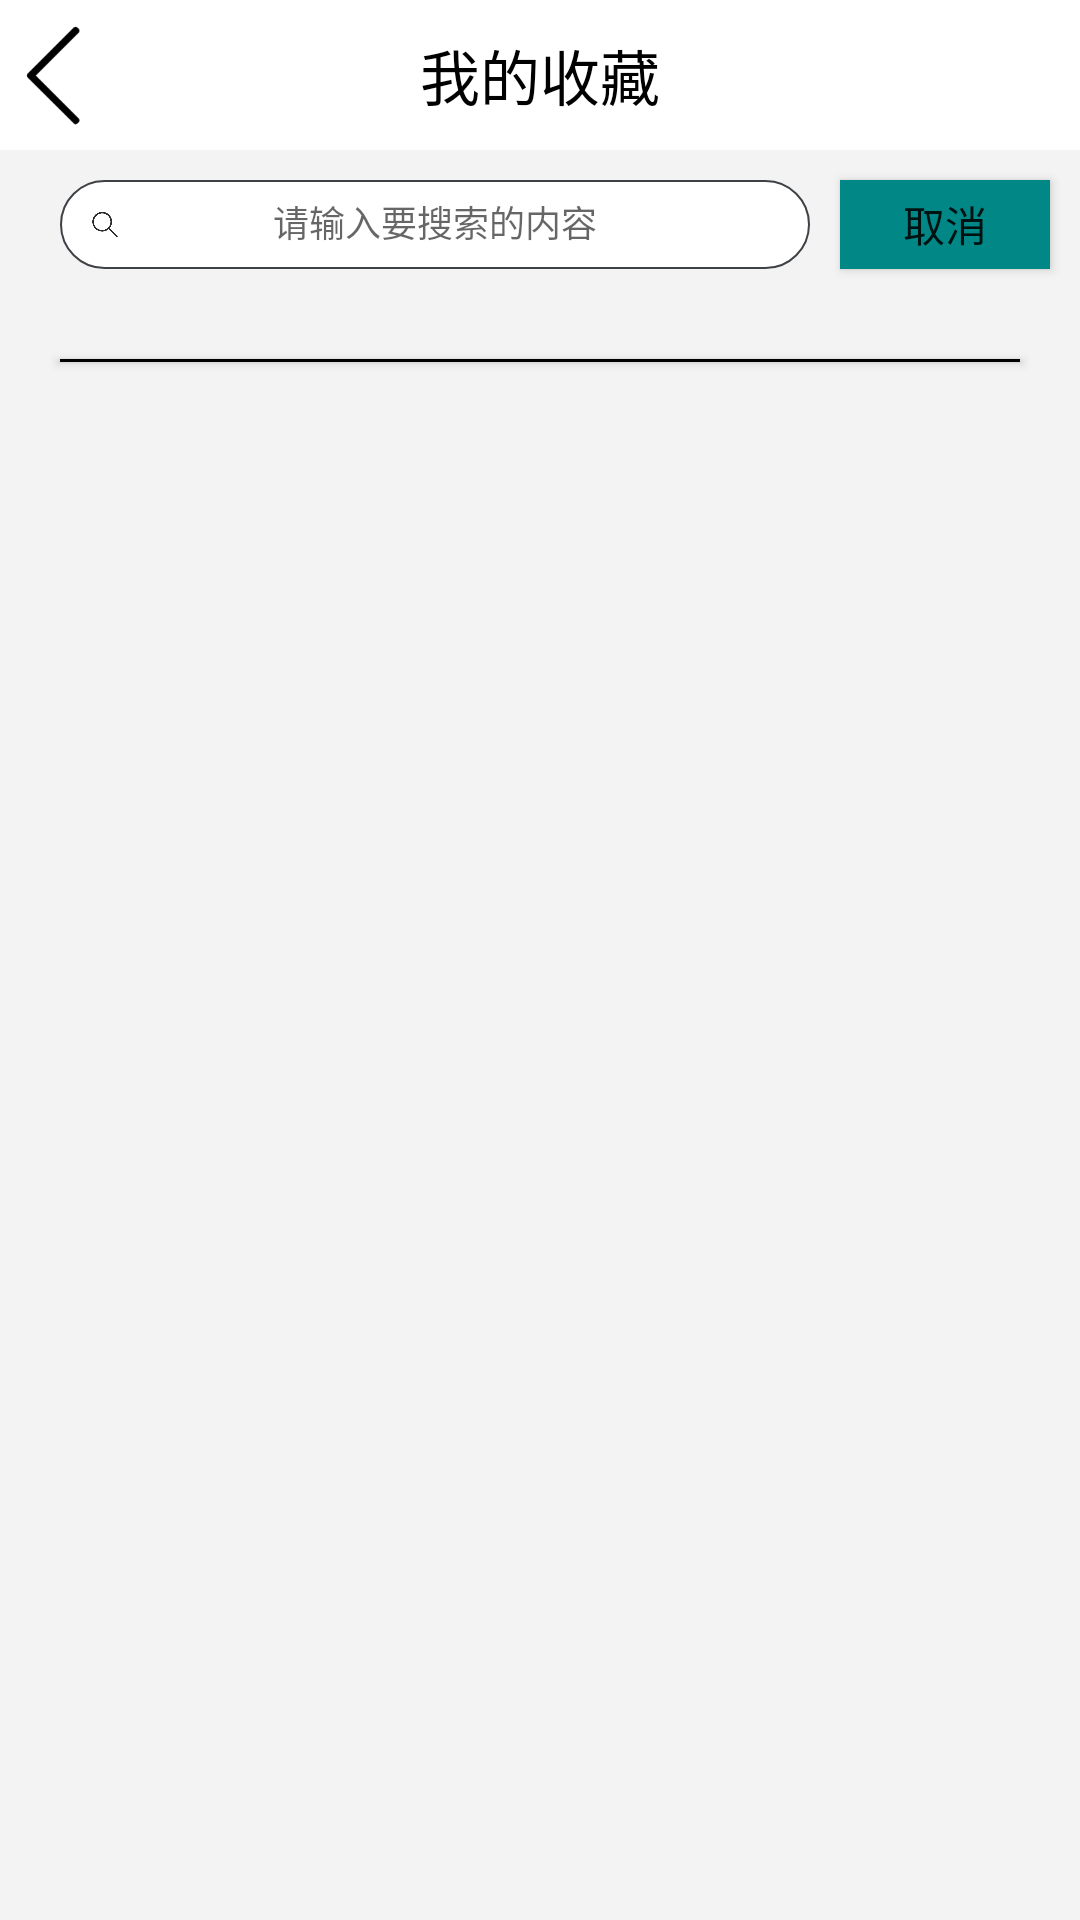

Point at icon controls on the screen. Image size 1080 x 1920, points as [x,y].
back: [53,75]
search: [105,224]
